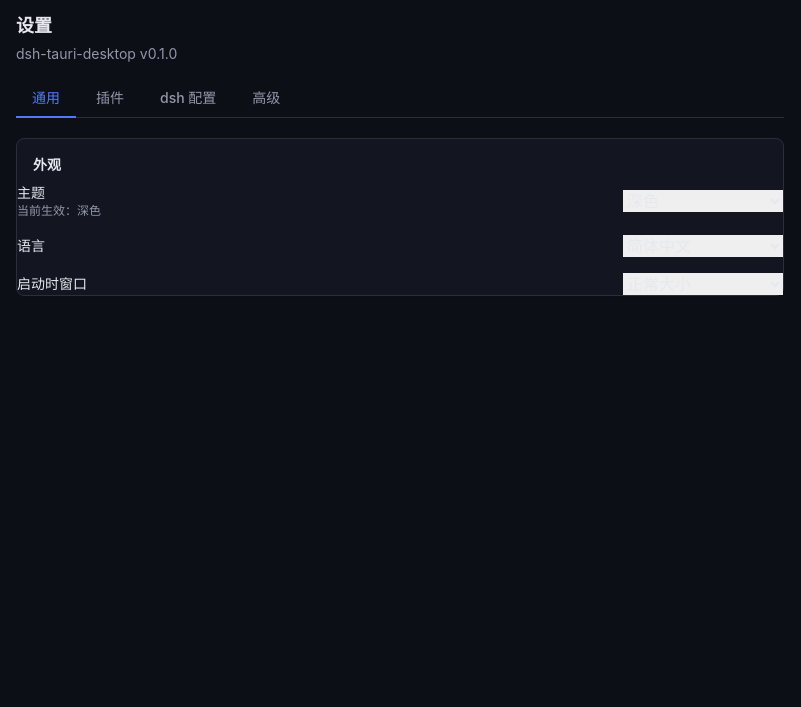
Test: SettingsPage › advanced tab shows allowlist content
The image size is (801, 707).
Click the tab "高级" at (266, 99), box [236, 80, 296, 118]
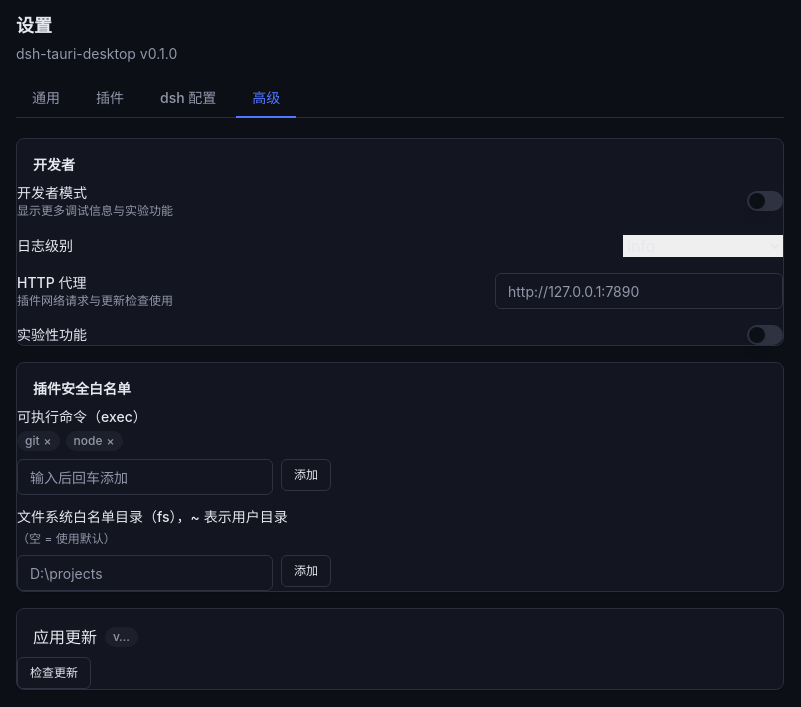
Check: the text "exec" is shown, box [17, 408, 147, 425]
Check: the text "git" is shown, box [25, 433, 40, 448]
